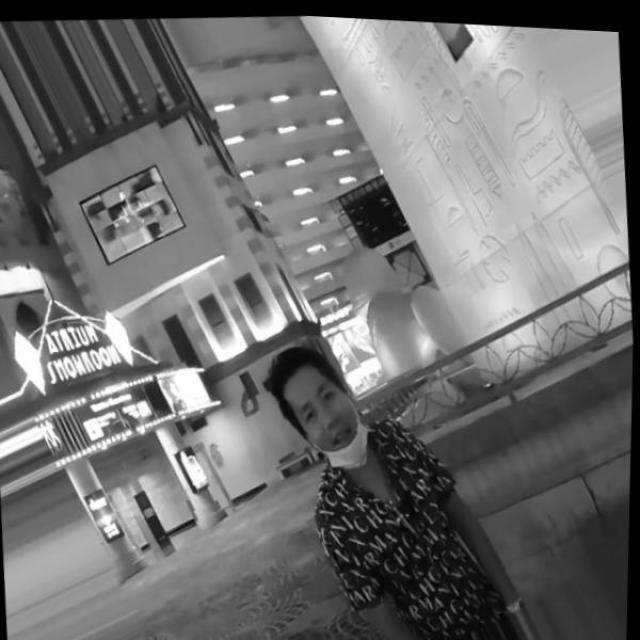hairnet: (298, 374, 372, 468)
